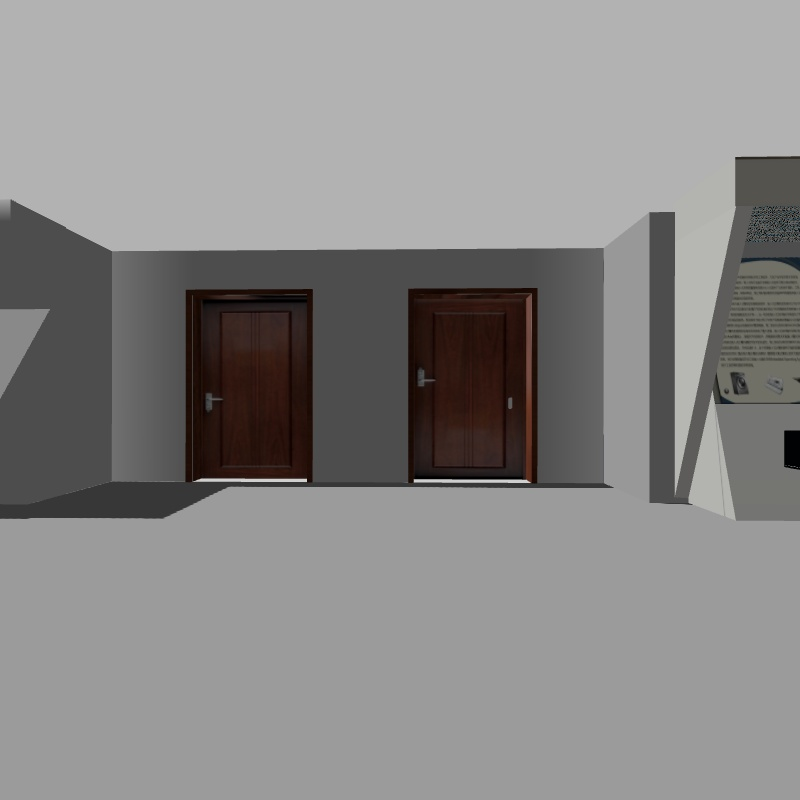handle: (406, 364, 438, 392), (199, 386, 228, 415)
